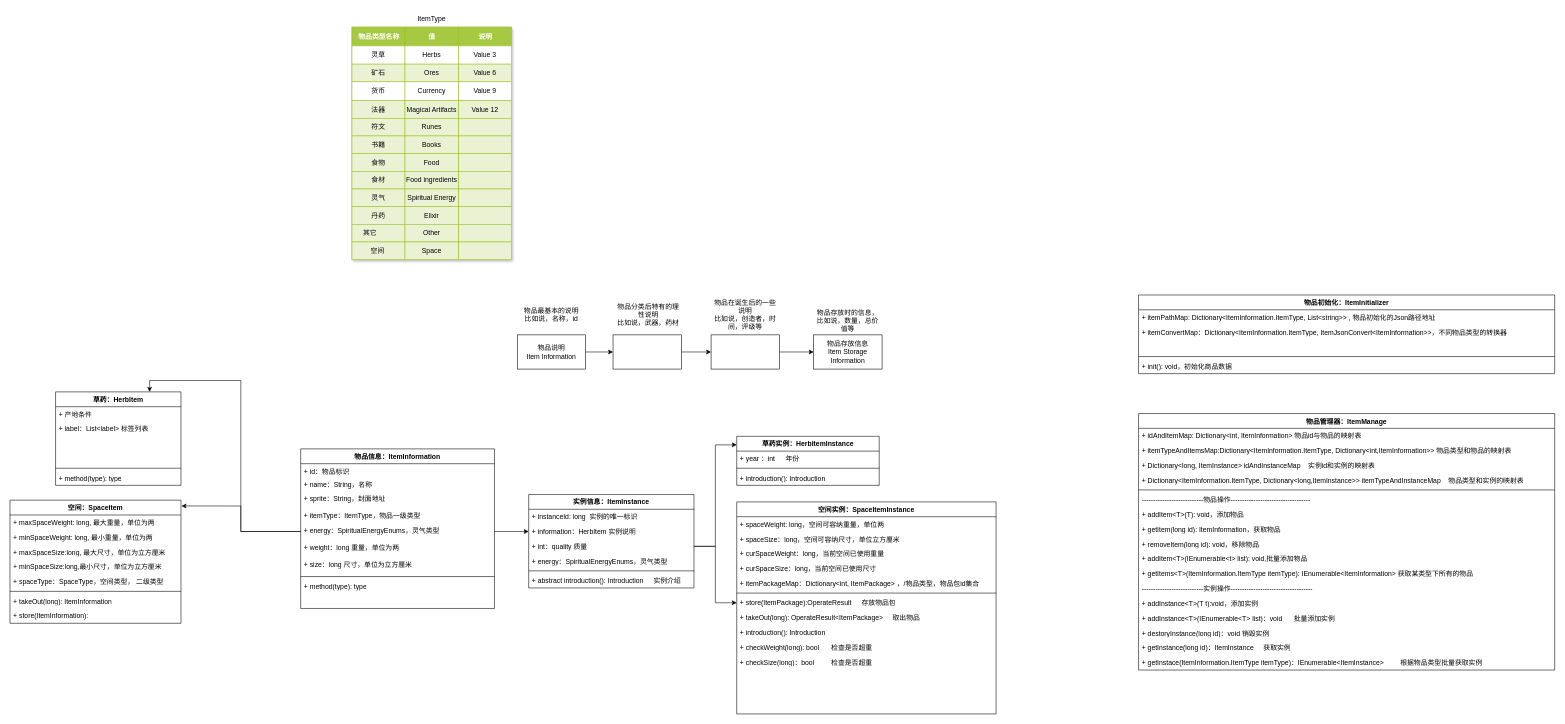
This 1565x724 diagram has some shape labels left out. The centre of each missing label's shape, as x and y in pixels:
"物品实例 Item Instance" belongs at (x=745, y=351).
"物品类型说明 Item Type Information" belongs at (x=646, y=351).
